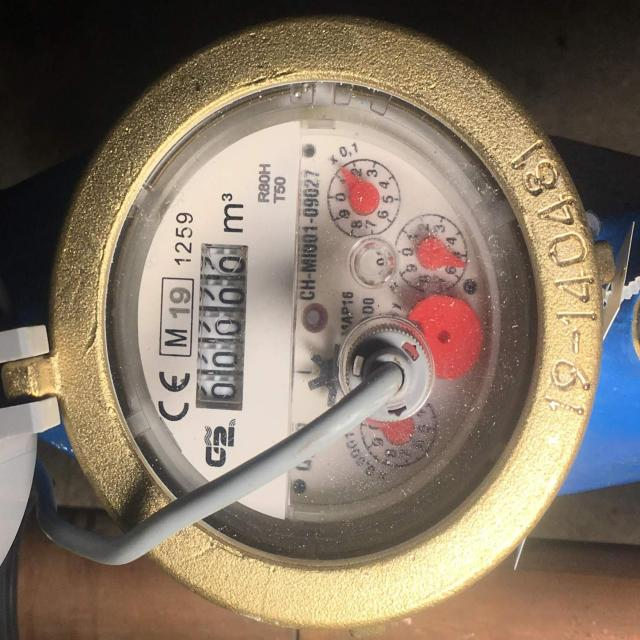gaz_meter: (112, 84, 543, 570)
indication: (198, 243, 250, 412)
